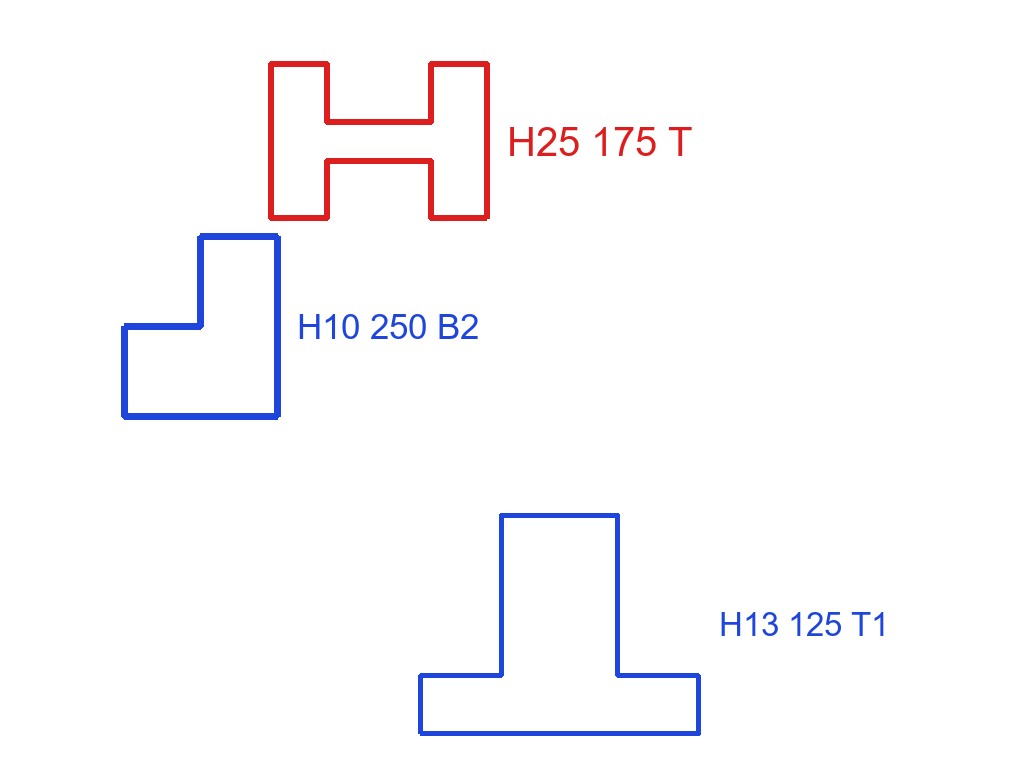shape: (416, 511, 703, 738), (267, 59, 492, 224), (119, 231, 283, 422)
text: (505, 125, 694, 158), (295, 312, 481, 341), (717, 610, 891, 638)
